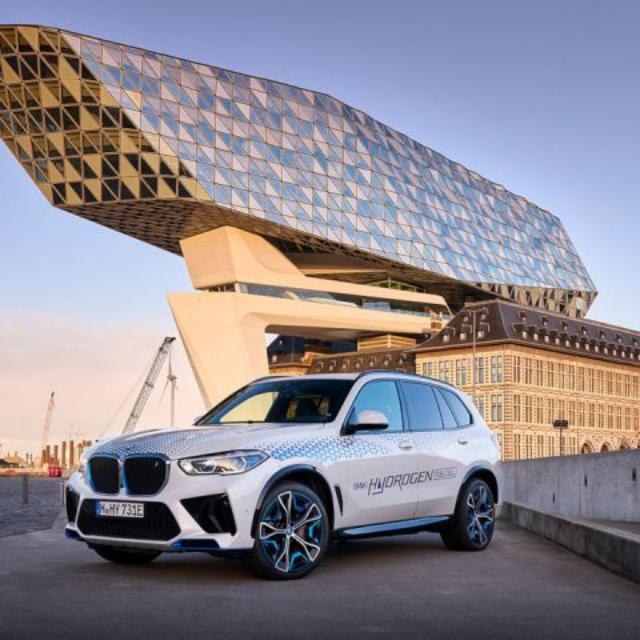bmw: (63, 370, 507, 580)
